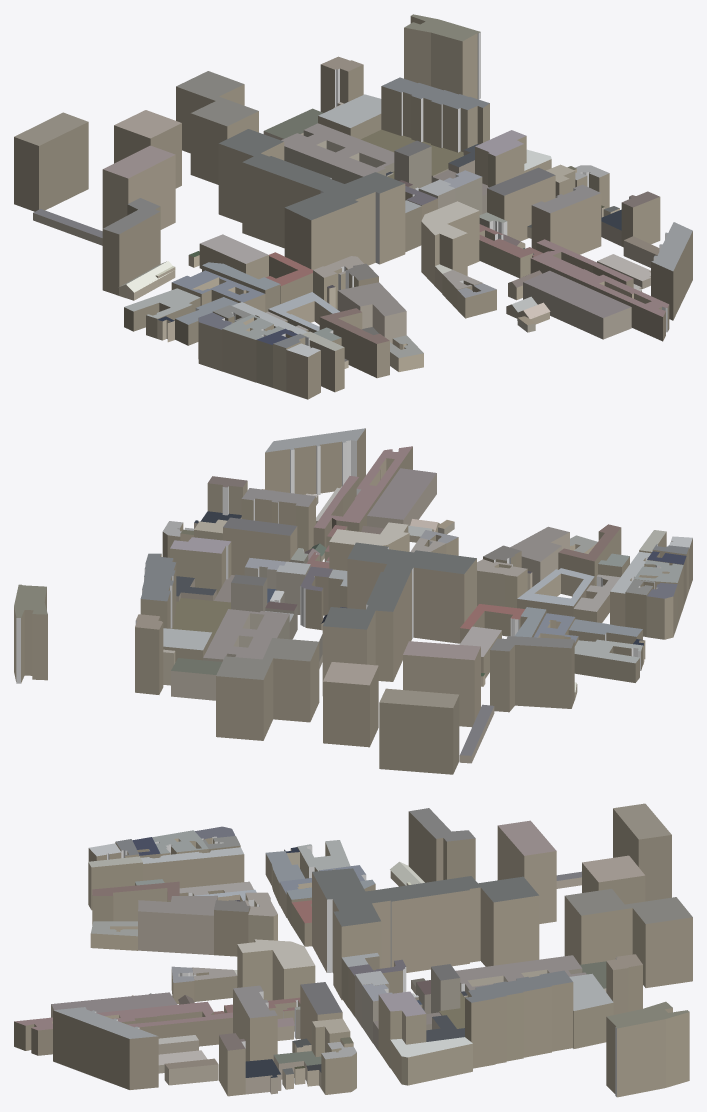
3 views of the same model, one above another, from view 1: azimuth 30°, elevation 25°; view 2: azimuth 150°, elevation 25°; view 3: azimuth 270°, elevation 25° (orthographic). The views are drawn at different scales.
Parts seen in each view (by area): view 1: tuile; view 2: tuile; view 3: tuile.
Boxes of the visible parts, <box> form: tuile: <box>14,14,692,399</box>; tuile: <box>14,428,692,774</box>; tuile: <box>14,803,692,1097</box>.
Size of the model in its own units: 271 by 41.02 by 313.
